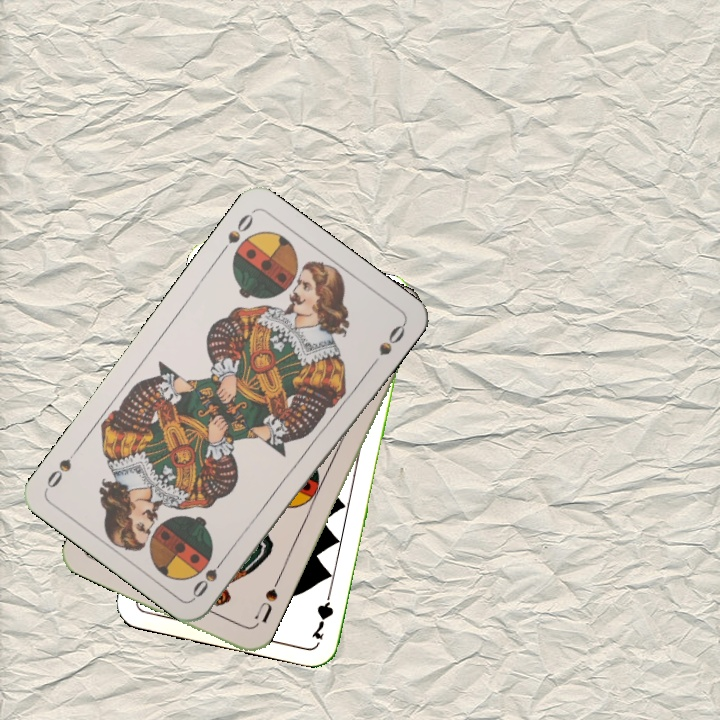G7: (307, 584, 336, 642)
SO: (188, 550, 231, 601), (215, 208, 257, 258)
SU: (250, 574, 282, 625)
